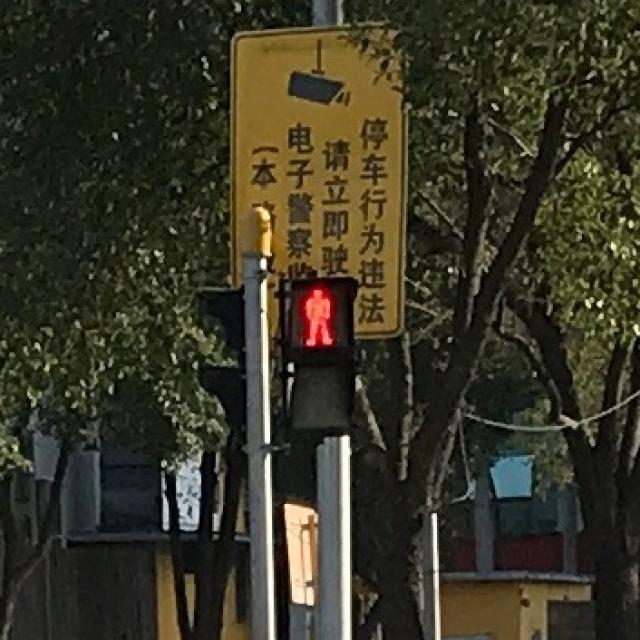red-crossing: (288, 278, 351, 354)
